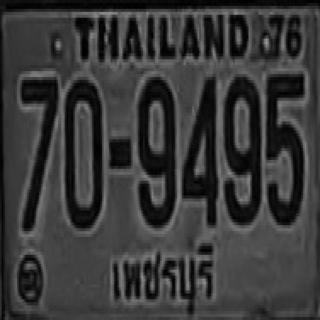N00: (65, 78, 100, 227)
N04: (181, 74, 217, 225)
N05: (266, 71, 303, 222)
N07: (20, 74, 57, 228)
N09: (136, 74, 174, 225), (224, 74, 260, 222)
P44: (106, 231, 223, 320)
